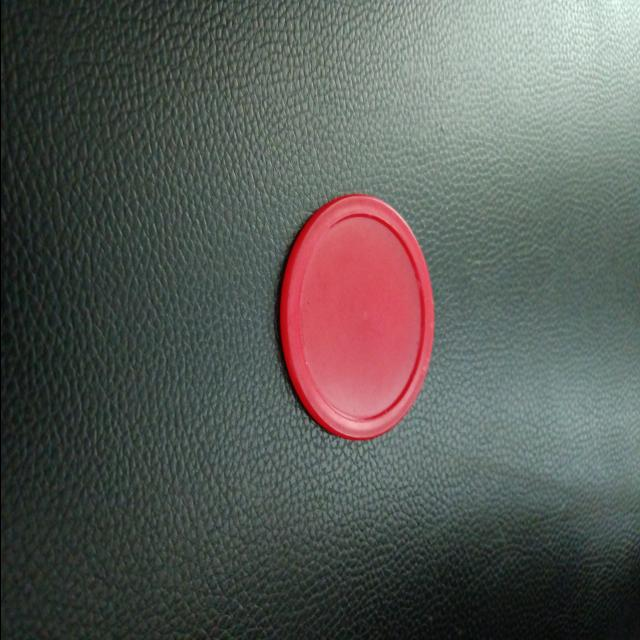chip: (276, 188, 438, 445)
